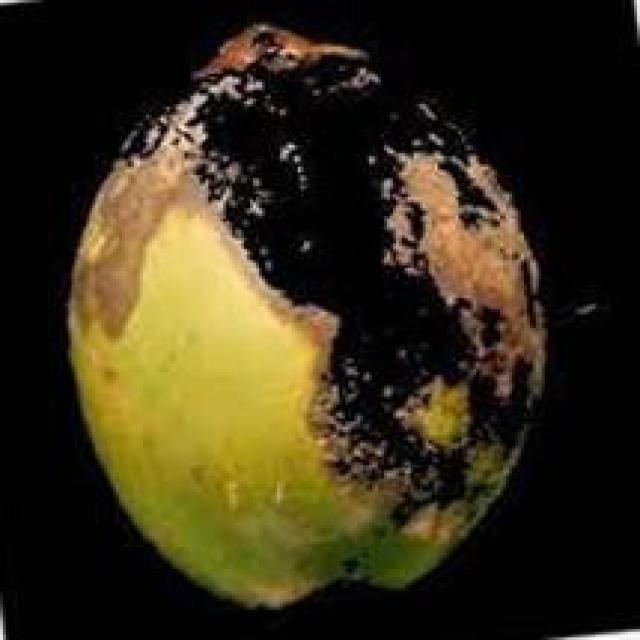damaged: (65, 22, 548, 613)
